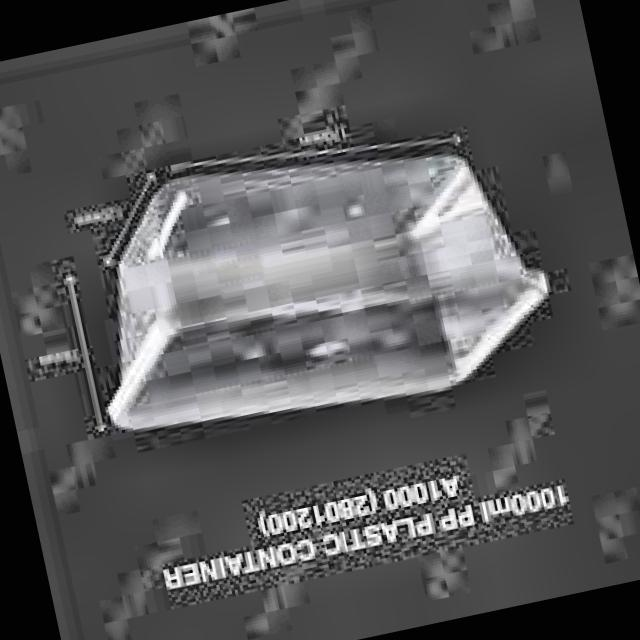plastic container: (108, 156, 548, 429)
